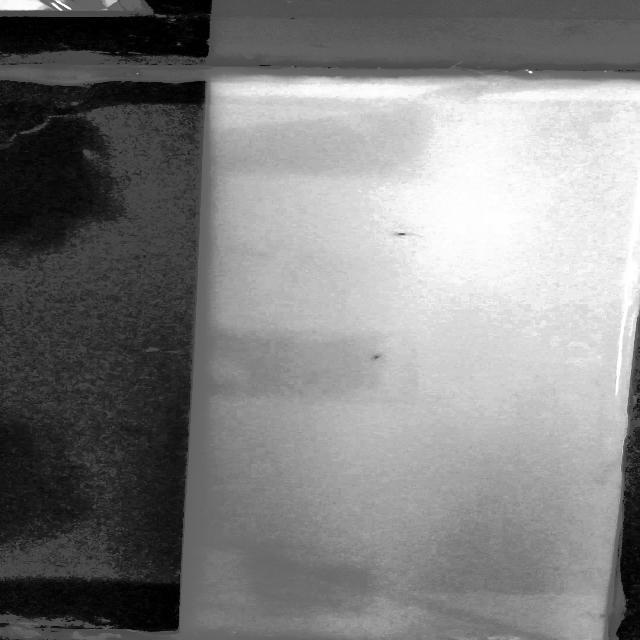shrimp: (387, 229, 426, 241), (364, 351, 386, 362)
